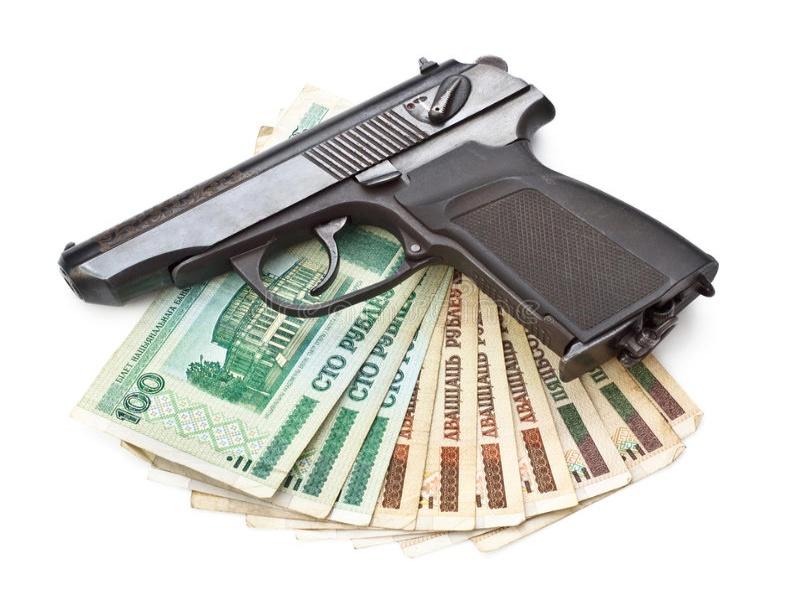cash: (69, 86, 704, 553)
weapon: (57, 57, 720, 382)
